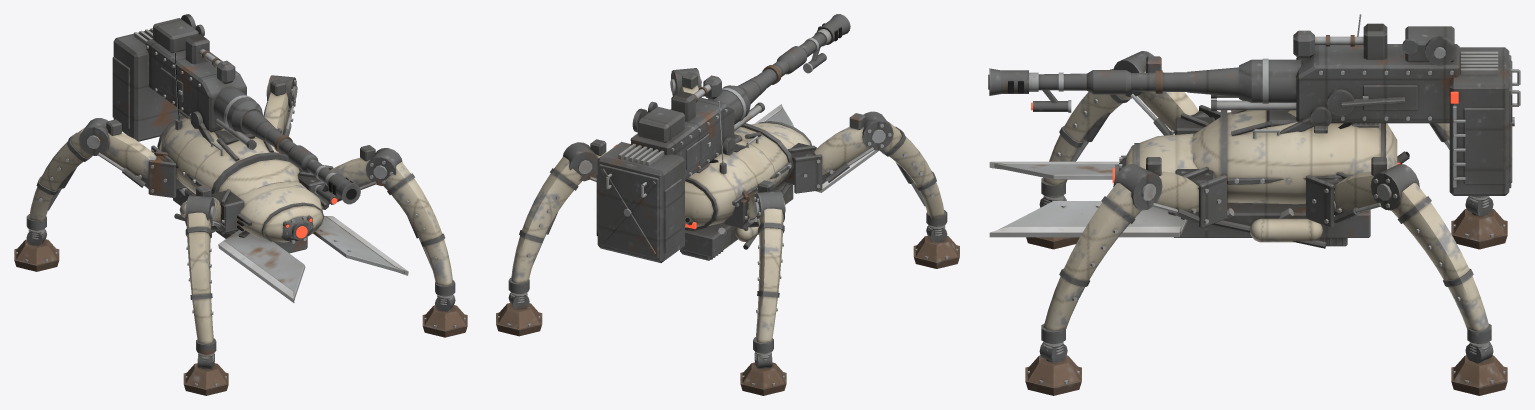
Rendered from walker.glb.
3 views of the same model, side by side, from view 1: azimuth 30°, elevation 25°; view 2: azimuth 150°, elevation 25°; view 3: azimuth 270°, elevation 25° (orthographic). The views are drawn at different scales.
Visible parts, largest first — view 1: Hull, Turret, Cannon, Leg_FL_Shin, Leg_FR_Shin, Leg_BR_Thigh, Leg_BR_Shin, Leg_FL_Thigh, Leg_BL_Thigh, Leg_FL_Foot, Leg_BR_Foot, Leg_FR_Foot (+1 smaller); view 2: Turret, Hull, Cannon, Leg_BL_Shin, Leg_BR_Shin, Leg_FR_Thigh, Leg_FR_Shin, Leg_BL_Foot, Leg_FR_Foot, Leg_BR_Foot, Leg_BL_Thigh, Leg_BR_Thigh (+1 smaller); view 3: Hull, Turret, Cannon, Leg_FL_Shin, Leg_BL_Shin, Leg_BL_Thigh, Leg_FL_Thigh, Leg_FR_Shin, Leg_FR_Thigh, Leg_BL_Foot, Leg_FL_Foot, Leg_BR_Foot (+2 smaller).
Boxes of the visible parts, box(x1,y1,x2,y2) form: Hull: box(138, 52, 408, 302); Turret: box(112, 14, 255, 144); Cannon: box(213, 86, 360, 204); Leg_FL_Shin: box(383, 162, 455, 304); Leg_FR_Shin: box(185, 212, 216, 361); Leg_BR_Thigh: box(79, 118, 162, 188); Leg_BR_Shin: box(26, 127, 92, 239); Leg_FL_Thigh: box(329, 145, 402, 204); Leg_BL_Thigh: box(263, 75, 297, 136); Leg_FL_Foot: box(422, 295, 467, 337); Leg_BR_Foot: box(14, 229, 59, 271); Leg_FR_Foot: box(183, 354, 228, 395); Turret: box(596, 75, 746, 262); Hull: box(680, 101, 879, 260); Cannon: box(708, 14, 850, 130); Leg_BL_Shin: box(508, 156, 581, 302); Leg_BR_Shin: box(753, 208, 784, 360); Leg_FR_Thigh: box(808, 111, 893, 183); Leg_FR_Shin: box(879, 121, 947, 235); Leg_BL_Foot: box(496, 293, 542, 336); Leg_FR_Foot: box(913, 226, 959, 268); Leg_BR_Foot: box(740, 353, 786, 395); Leg_BL_Thigh: box(563, 139, 606, 181); Leg_BR_Thigh: box(743, 180, 785, 227); Hull: box(989, 14, 1409, 248); Turret: box(1266, 23, 1520, 195); Cannon: box(988, 58, 1301, 112); Leg_FL_Shin: box(1041, 183, 1141, 354); Leg_BL_Shin: box(1391, 183, 1491, 354); Leg_BL_Thigh: box(1330, 157, 1419, 223); Leg_FL_Thigh: box(1113, 157, 1202, 223); Leg_FR_Shin: box(1041, 68, 1131, 205); Leg_FR_Thigh: box(1113, 51, 1209, 135); Leg_BL_Foot: box(1451, 342, 1507, 395); Leg_FL_Foot: box(1025, 342, 1081, 395); Leg_BR_Foot: box(1451, 196, 1507, 249).
Size of the model in its own units: 4.16 by 3.15 by 5.38.
Materials: 1 (1 with a texture image).
